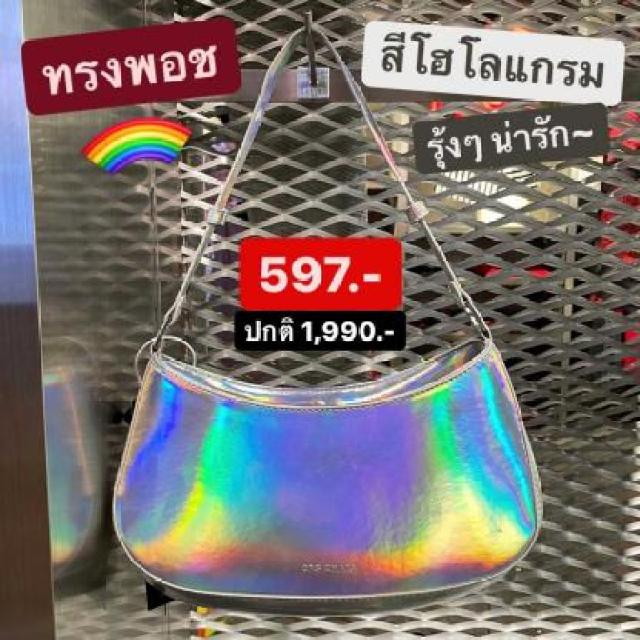Bag: (88, 9, 569, 608)
